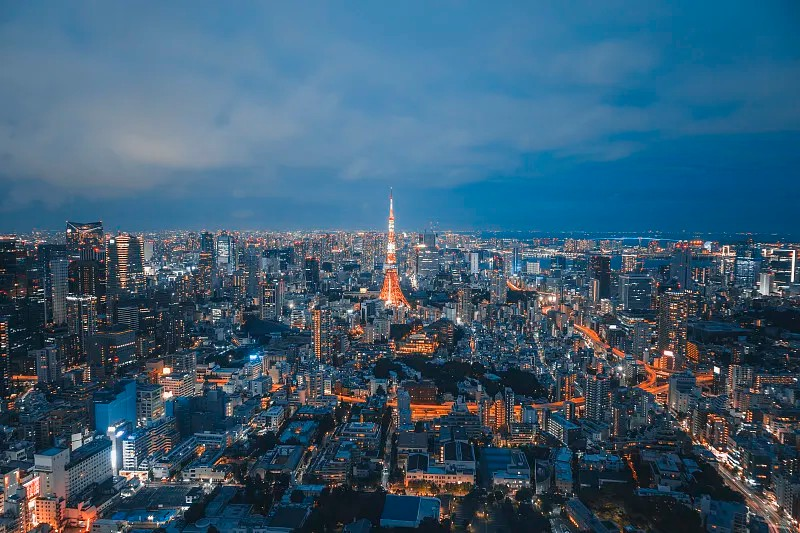Tokyo: (376, 183, 411, 312)
